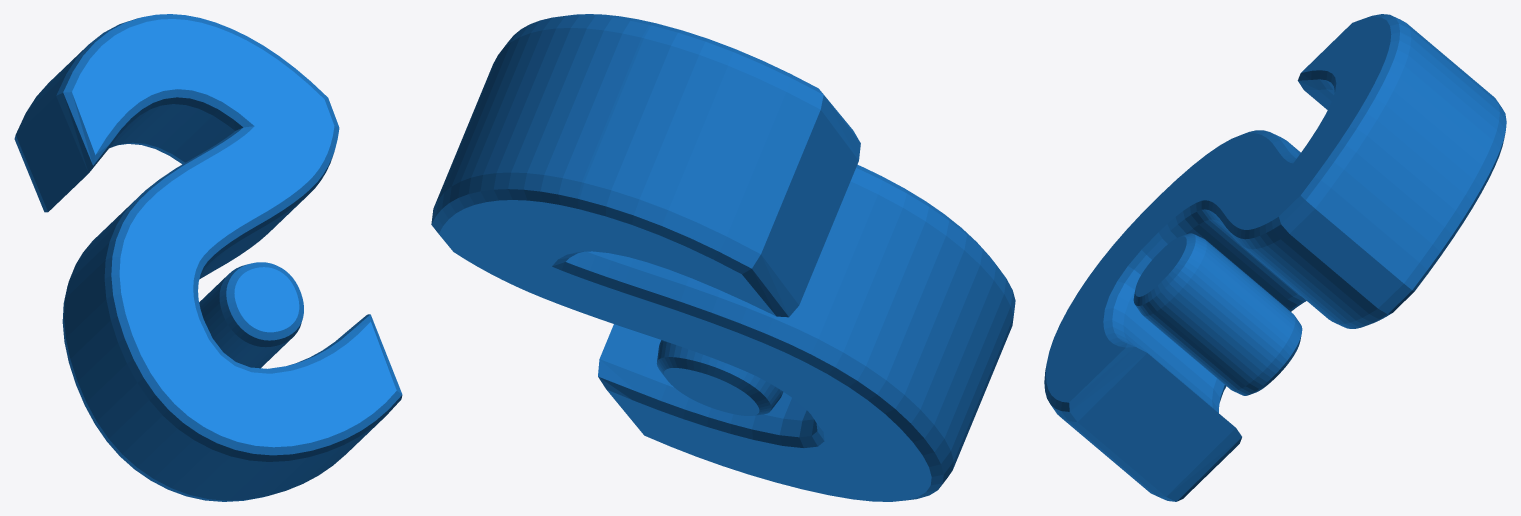
3 renders of one model, left to right at view 1: azimuth 30°, elevation 25°; view 2: azimuth 150°, elevation 25°; view 3: azimuth 270°, elevation 25°, orthographic. The views are drawn at different scales.
Parts seen in each view (by area): view 1: letter; view 2: letter; view 3: letter.
Boxes of the visible parts, box(x1,y1,x2,y2) form: letter: box(14, 14, 402, 501); letter: box(431, 14, 1015, 501); letter: box(1044, 14, 1506, 501).
Size of the model in its own units: 0.8 by 1.11 by 1.07.
